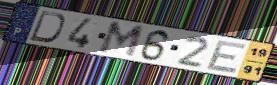2: (176, 36, 211, 68)
4: (65, 17, 95, 50)
6: (139, 29, 172, 63)
D: (27, 10, 67, 44)
E: (204, 39, 249, 75)
M: (96, 20, 147, 60)
